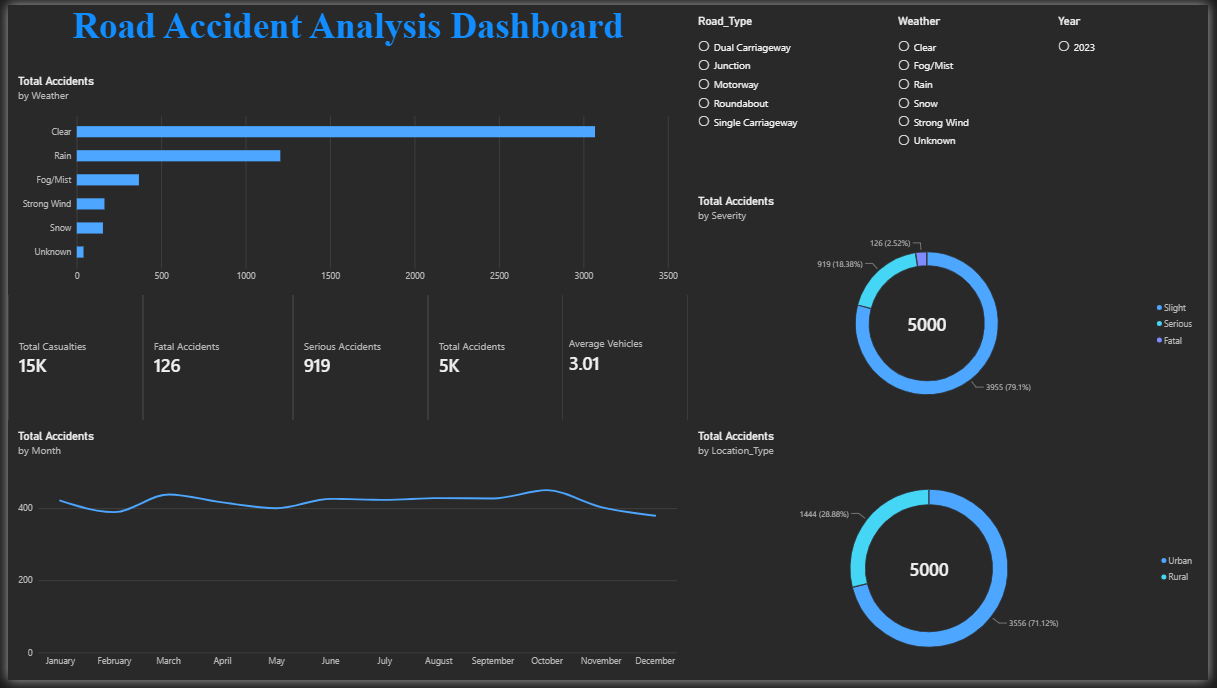

This screenshot's page, from the dashboard's own definition file:
{"tool":"powerbi","page":{"name":"Page 1","canvas":[1920,1080],"ordinal":0},"visuals":[{"type":"cardVisual","fields":{"Data":["road_accident_cleaned.Average Vehicles"]},"box":[880,448,208,224],"z":0},{"type":"cardVisual","fields":{"Data":["road_accident_cleaned.Fatal Accidents"]},"box":[216,456,240,216],"z":1000},{"type":"cardVisual","fields":{"Data":["road_accident_cleaned.Serious Accidents"]},"box":[456,456,216,216],"z":2000},{"type":"cardVisual","fields":{"Data":["road_accident_cleaned.Total Accidents"]},"box":[672,456,216,216],"z":3000},{"type":"cardVisual","fields":{"Data":["road_accident_cleaned.Total Casualties"]},"box":[0,456,216,216],"z":4000},{"type":"lineChart","fields":{"Category":["road_accident_cleaned.Month"],"Y":["road_accident_cleaned.Total Accidents"]},"box":[0,664,1088,416],"z":5000},{"type":"donutChart","fields":{"Category":["road_accident_cleaned.Severity"],"Y":["road_accident_cleaned.Total Accidents"]},"box":[1088,288,832,384],"z":6000},{"type":"barChart","fields":{"Category":["road_accident_cleaned.Weather"],"Y":["road_accident_cleaned.Total Accidents"]},"box":[0,96,1088,368],"z":7000},{"type":"donutChart","fields":{"Category":["road_accident_cleaned.Location_Type"],"Y":["road_accident_cleaned.Total Accidents"]},"box":[1088,664,832,416],"z":8000},{"type":"listSlicer","fields":{"Values":["road_accident_cleaned.Year"]},"box":[1664,0,256,288],"z":9000},{"type":"listSlicer","fields":{"Values":["road_accident_cleaned.Road_Type"]},"box":[1088,0,320,288],"z":10000},{"type":"listSlicer","fields":{"Values":["road_accident_cleaned.Weather"]},"box":[1408,0,256,288],"z":11000},{"type":"textbox","box":[0,0,1088,96],"z":14000}]}

Visuals, with their boxes in screenshot pixels (x1, y1, x2, y2), scaled from the page's 1920x1080 canvas onto the 1217x688 screenshot:
cardVisual - road_accident_cleaned.Average Vehicles: x1=558 y1=285 x2=690 y2=428
cardVisual - road_accident_cleaned.Fatal Accidents: x1=137 y1=290 x2=289 y2=428
cardVisual - road_accident_cleaned.Serious Accidents: x1=289 y1=290 x2=426 y2=428
cardVisual - road_accident_cleaned.Total Accidents: x1=426 y1=290 x2=563 y2=428
cardVisual - road_accident_cleaned.Total Casualties: x1=0 y1=290 x2=137 y2=428
lineChart - road_accident_cleaned.Month x road_accident_cleaned.Total Accidents: x1=0 y1=423 x2=690 y2=687
donutChart - road_accident_cleaned.Severity x road_accident_cleaned.Total Accidents: x1=690 y1=183 x2=1216 y2=428
barChart - road_accident_cleaned.Weather x road_accident_cleaned.Total Accidents: x1=0 y1=61 x2=690 y2=296
donutChart - road_accident_cleaned.Location_Type x road_accident_cleaned.Total Accidents: x1=690 y1=423 x2=1216 y2=687
listSlicer - road_accident_cleaned.Year: x1=1055 y1=0 x2=1216 y2=183
listSlicer - road_accident_cleaned.Road_Type: x1=690 y1=0 x2=892 y2=183
listSlicer - road_accident_cleaned.Weather: x1=892 y1=0 x2=1055 y2=183
textbox: x1=0 y1=0 x2=690 y2=61
